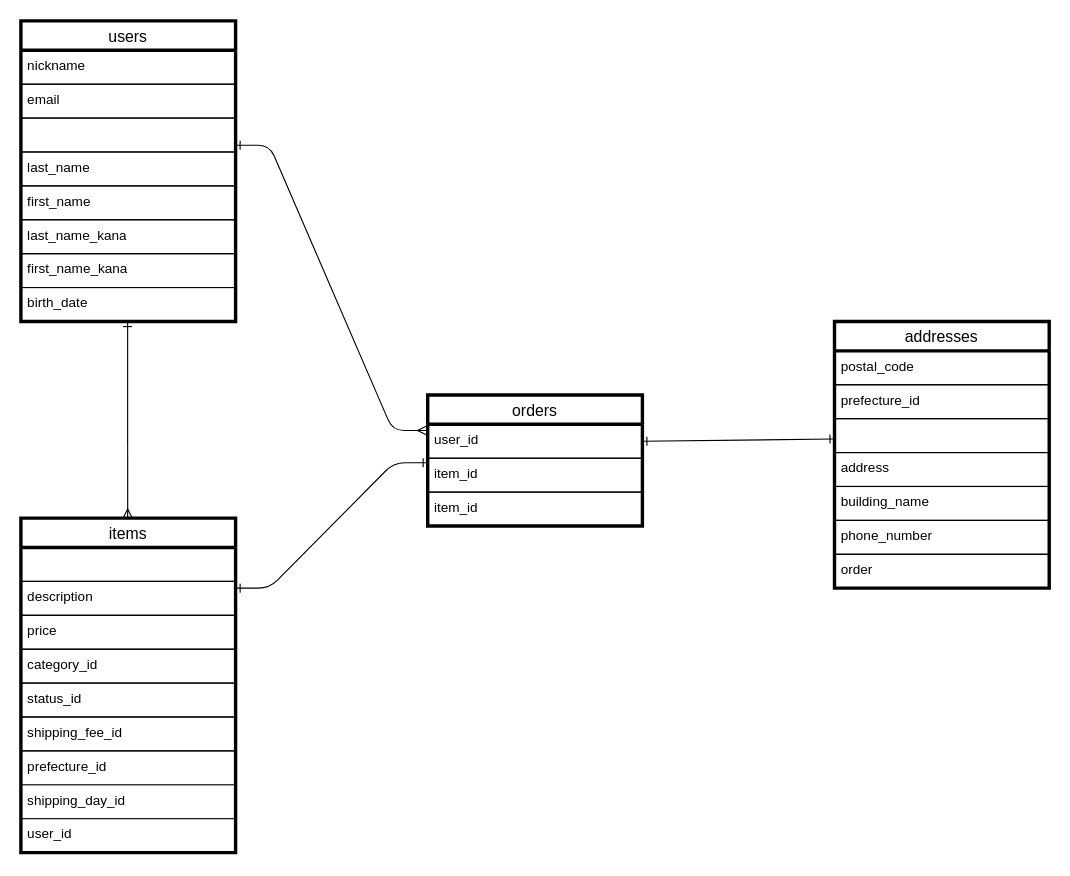
Image size: 1070x876. Some labels were removed from this diagram. The centre of each missing label's shape, as x and y in pixels:
city: the point at 941,435
encrypted_password: the point at 128,134
name: the point at 128,563
